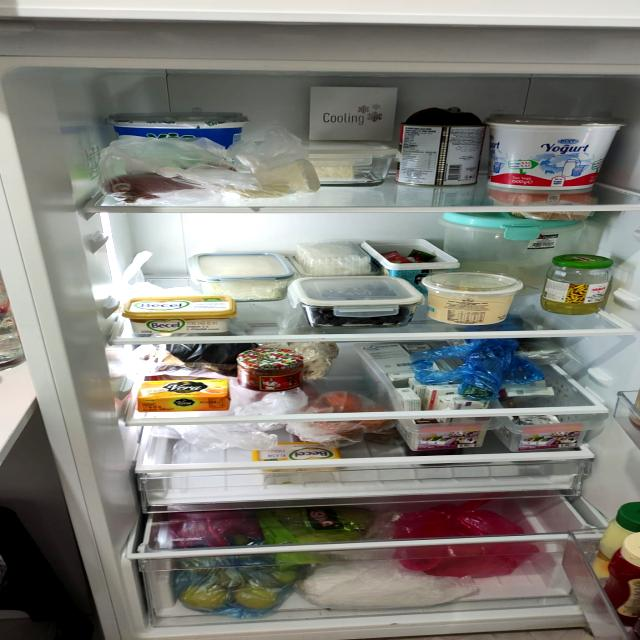cheese: (239, 147, 360, 197)
margarine: (117, 294, 242, 336)
olive: (294, 276, 419, 328)
tomato paste: (388, 106, 483, 188)
yogurt: (481, 110, 625, 194), (424, 268, 526, 326)
